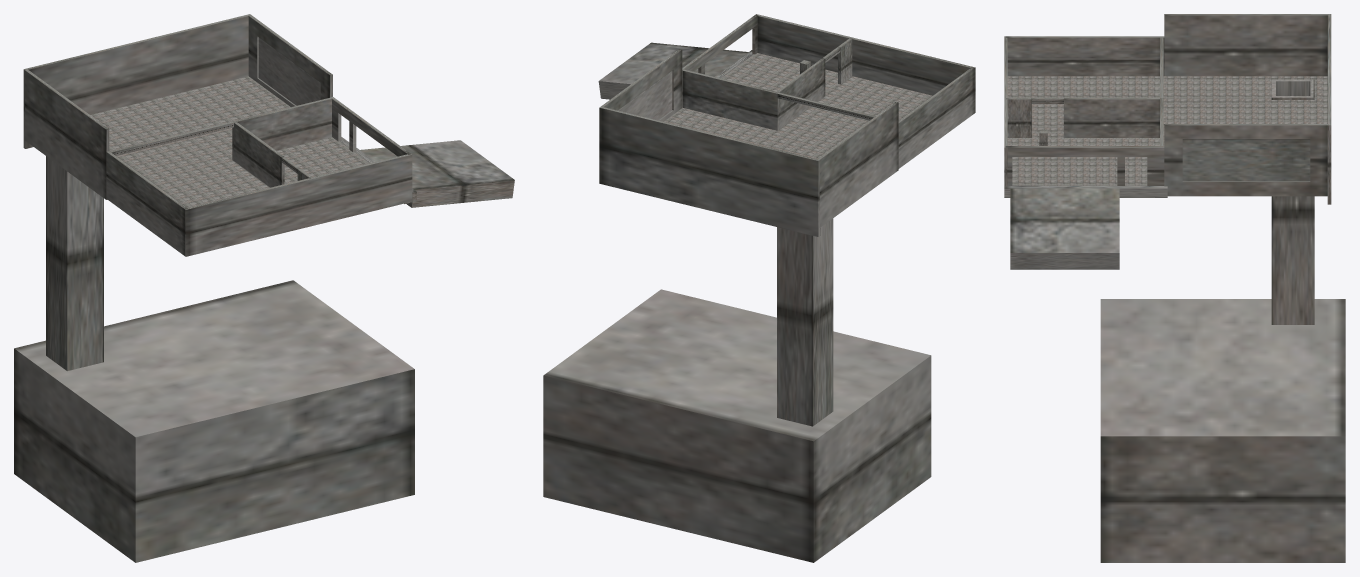
The picture shows the model from 3 angles, left to right: view 1: azimuth 30°, elevation 25°; view 2: azimuth 150°, elevation 25°; view 3: azimuth 270°, elevation 25°; orthographic projection. The views are drawn at different scales.
Visible parts, largest first — view 1: basement, floor, wall9, wall0, basement_tunnel, wall4, ramp, wal3, wall5, wall8, window_glass, wall6 (+2 smaller); view 2: basement, wall9, basement_tunnel, floor, wall0, wall4, wall5, wal3, ramp, wall8, wall6, window_glass (+3 smaller); view 3: basement, floor, wall4, ramp, wall8, basement_tunnel, wal3, window_glass, wall6, wall2, wall10, wall7 (+2 smaller).
Boxes of the visible parts, x1,y1,x2,y2 form: basement: [14, 280, 414, 562]; floor: [90, 76, 369, 207]; wall9: [23, 14, 250, 148]; wall0: [185, 154, 412, 256]; basement_tunnel: [46, 156, 103, 370]; wall4: [24, 69, 109, 199]; ramp: [360, 140, 514, 207]; wal3: [106, 151, 187, 255]; wall5: [232, 97, 331, 160]; wall8: [248, 15, 332, 106]; window_glass: [258, 37, 320, 105]; wall6: [234, 122, 284, 187]; basement: [543, 289, 931, 562]; wall9: [599, 107, 820, 236]; basement_tunnel: [777, 218, 833, 426]; floor: [664, 53, 932, 158]; wall0: [756, 14, 975, 112]; wall4: [817, 102, 898, 227]; wall5: [682, 69, 779, 130]; wal3: [898, 67, 974, 168]; ramp: [598, 42, 748, 99]; wall8: [600, 49, 682, 121]; wall6: [776, 58, 825, 129]; window_glass: [618, 71, 672, 120]; basement: [1100, 299, 1345, 562]; floor: [1007, 76, 1327, 185]; wall4: [1164, 14, 1328, 76]; ramp: [1010, 188, 1119, 269]; wall8: [1164, 124, 1328, 196]; basement_tunnel: [1271, 79, 1314, 324]; wal3: [1005, 36, 1164, 76]; window_glass: [1182, 139, 1310, 181]; wall6: [1064, 98, 1159, 137]; wall2: [1005, 146, 1164, 185]; wall10: [1004, 185, 1167, 197]; wall7: [1006, 98, 1031, 137].
Bounding box in the file's own units: 90.58 × 106 × 79.49.
